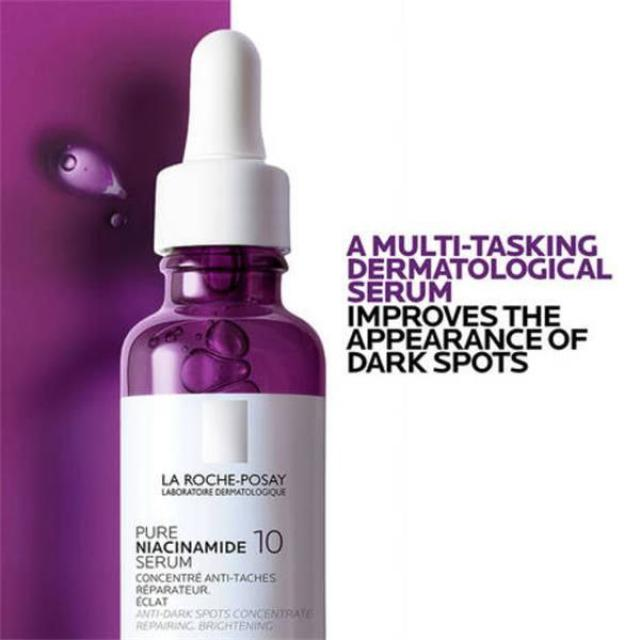medicine: (119, 308, 311, 636)
